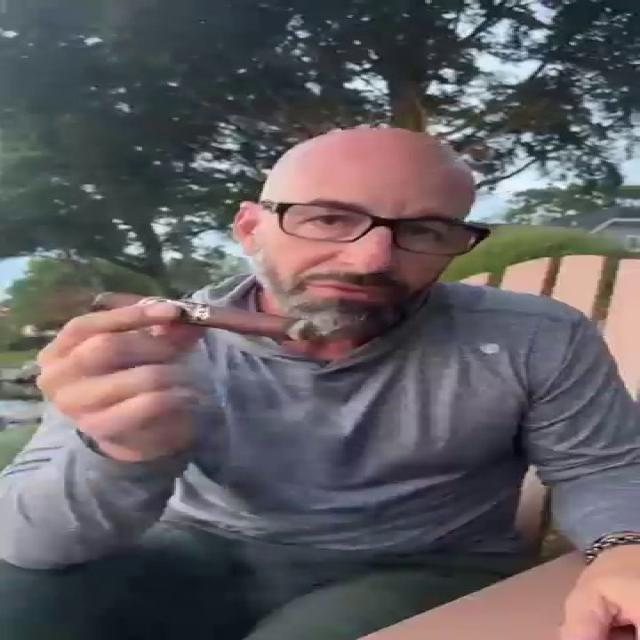Cigarette: (91, 291, 314, 342)
Hand: (20, 299, 225, 459)
Mouth: (296, 276, 403, 302)
